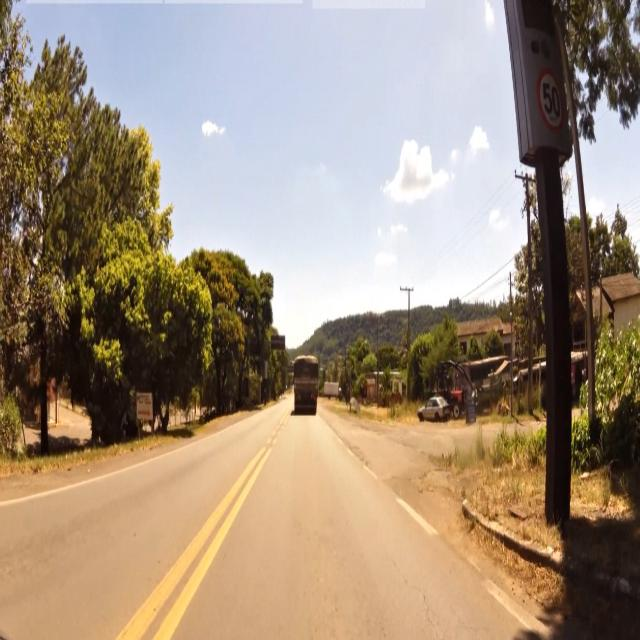R-19: (534, 68, 568, 131)
